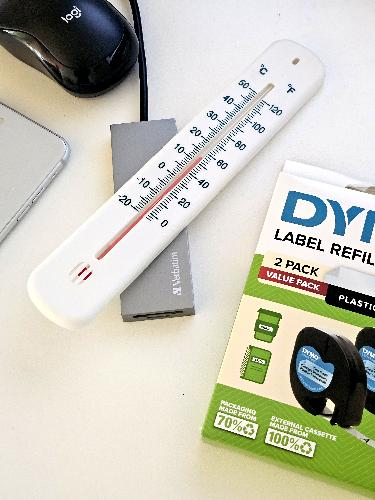thermo: (20, 27, 339, 340)
